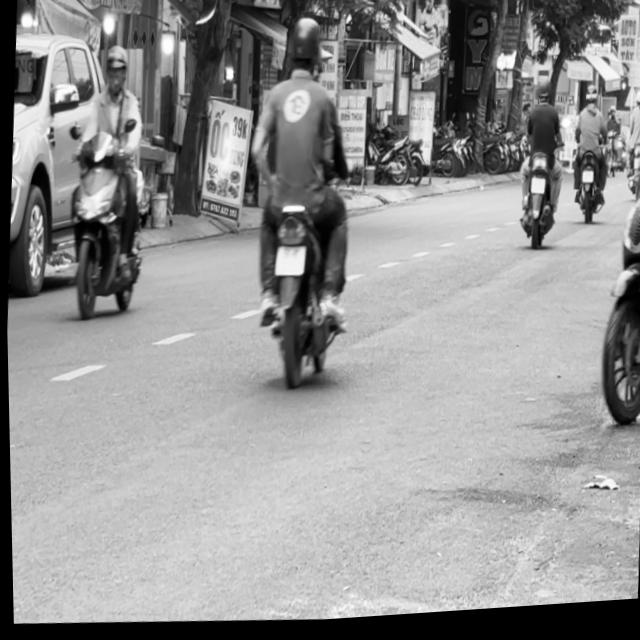helmet: (283, 16, 323, 84), (101, 43, 127, 93)
licenseplate: (236, 11, 363, 397), (56, 38, 155, 327)
nohelmet: (272, 247, 304, 281)
